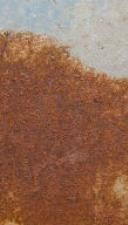Corrosion: (1, 28, 128, 225)
